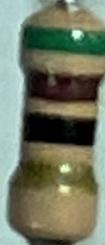Black: (23, 111, 98, 147)
Brown: (23, 67, 102, 102)
Green: (20, 22, 105, 54)
Side-Gold: (7, 157, 99, 194)
